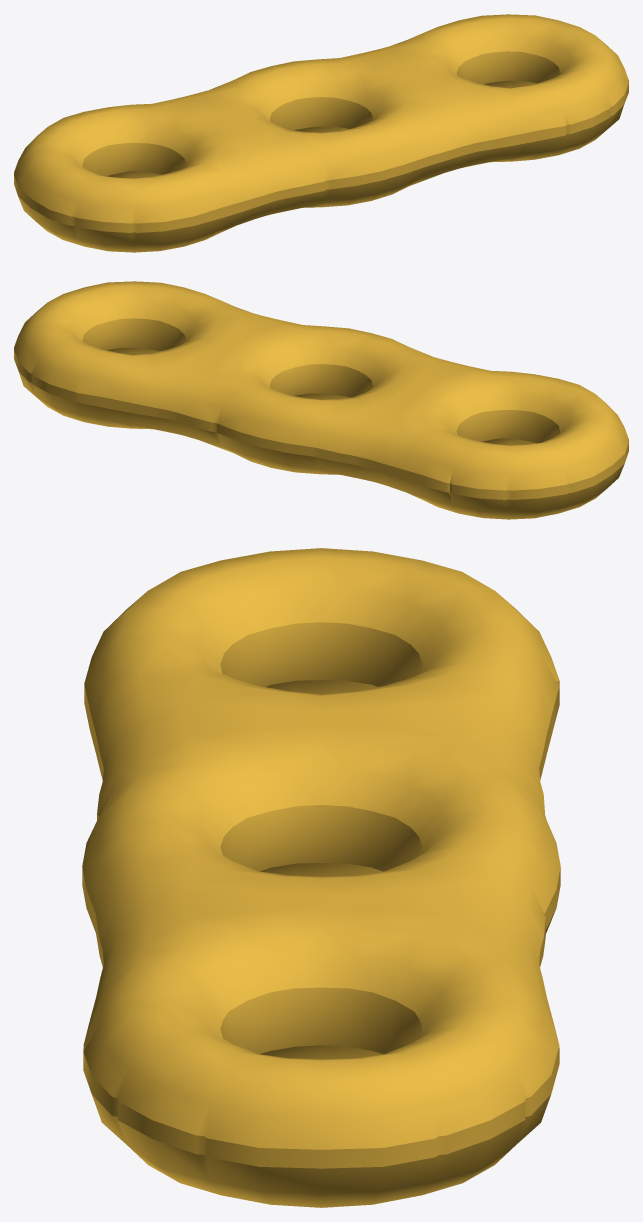
The model's file is MDL_Ring_Large_S.fbx.
3 renders of one model, top to bottom at view 1: azimuth 30°, elevation 25°; view 2: azimuth 150°, elevation 25°; view 3: azimuth 270°, elevation 25°, orthographic. The views are drawn at different scales.
Parts seen in each view (by area): view 1: MDL_Ring_Large_S; view 2: MDL_Ring_Large_S; view 3: MDL_Ring_Large_S.
Part boxes in pixels (x1=…): MDL_Ring_Large_S: x1=14, y1=14, x2=628, y2=252; MDL_Ring_Large_S: x1=14, y1=281, x2=628, y2=519; MDL_Ring_Large_S: x1=82, y1=548, x2=560, y2=1207.
Size of the model in its own units: 198 by 22.87 by 70.62.
